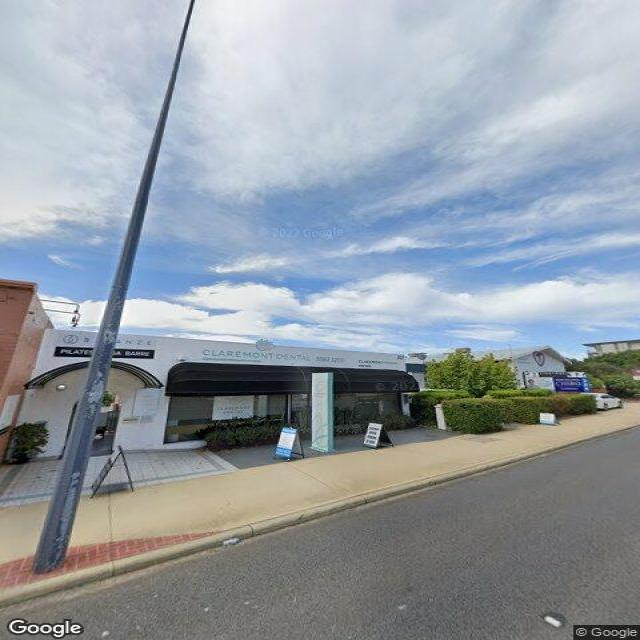steel-pole: (32, 0, 197, 572)
